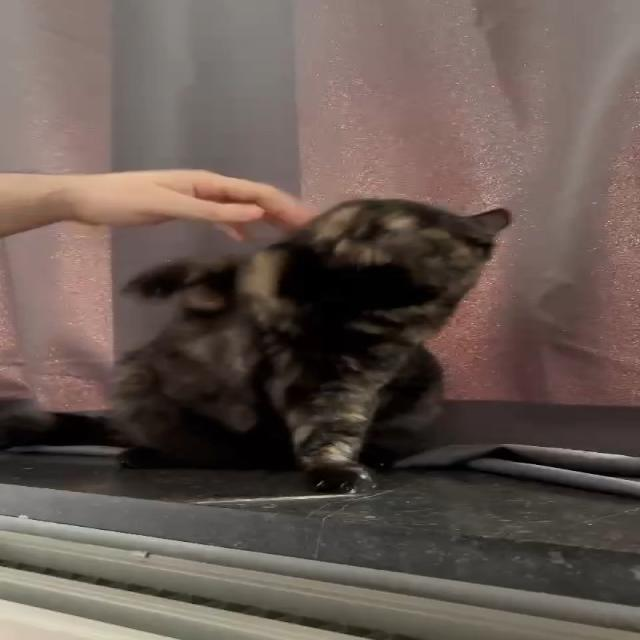authorized: (103, 196, 512, 494)
